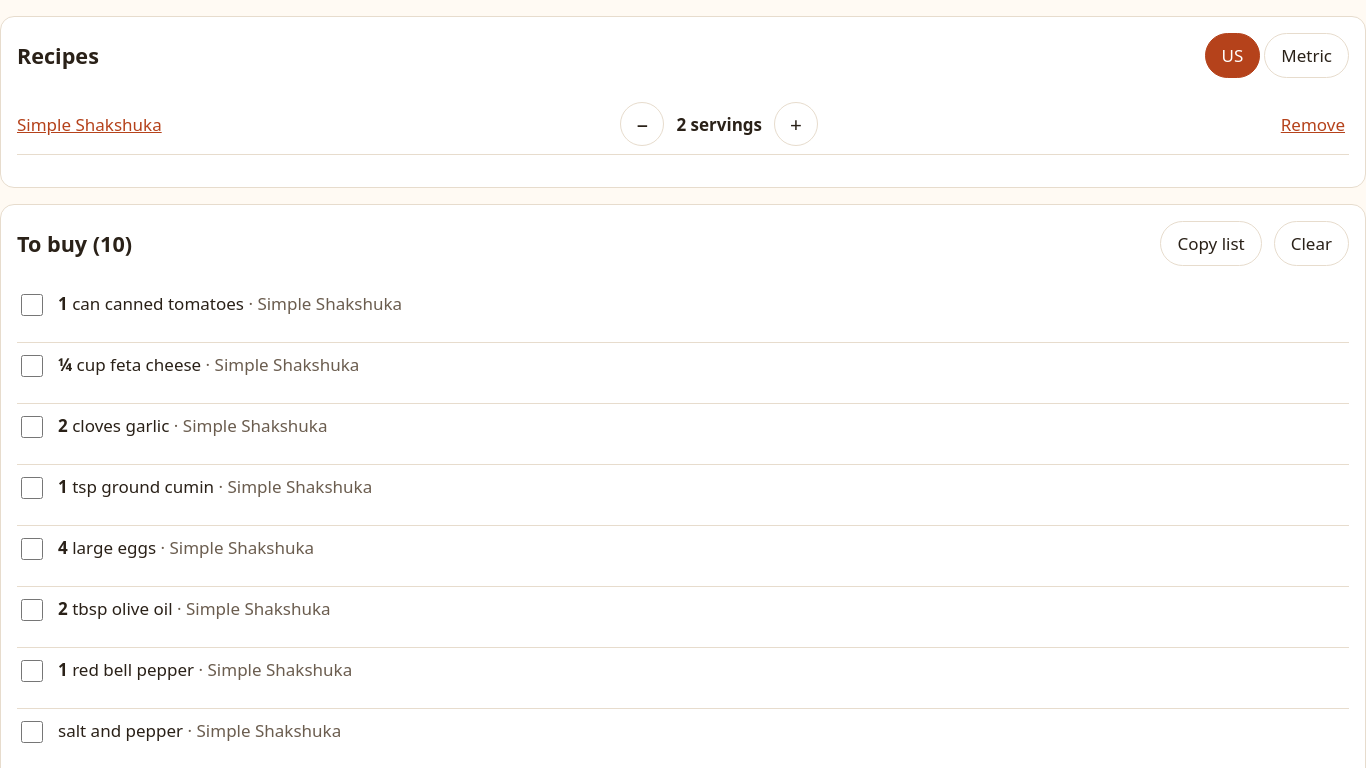
Test: ShoppingListView › copies the list as text and clears it
Click the button "Copy list" at (1211, 244), box [1160, 221, 1262, 266]
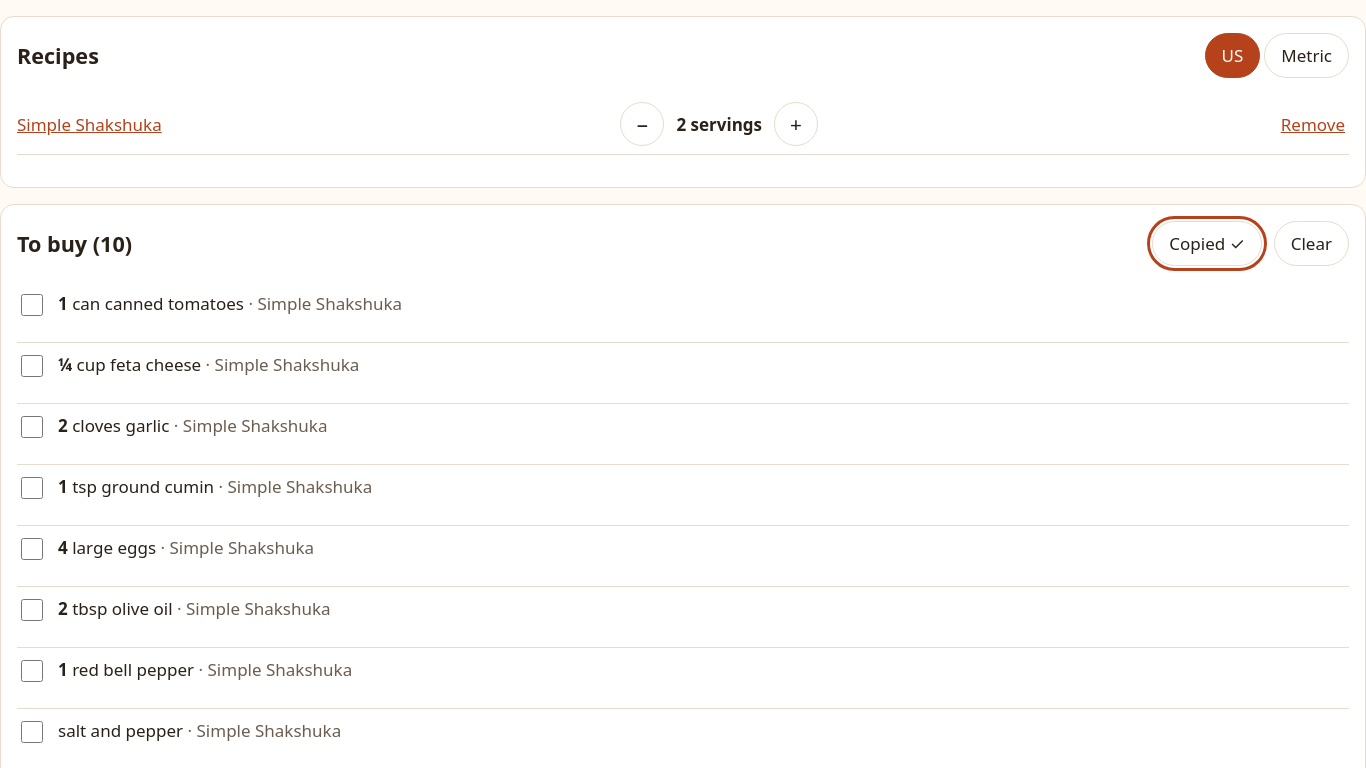
Check: the button "Copied ✓" is shown, box [1152, 221, 1262, 266]
Click the button "Clear" at (1311, 244), box [1274, 221, 1349, 266]
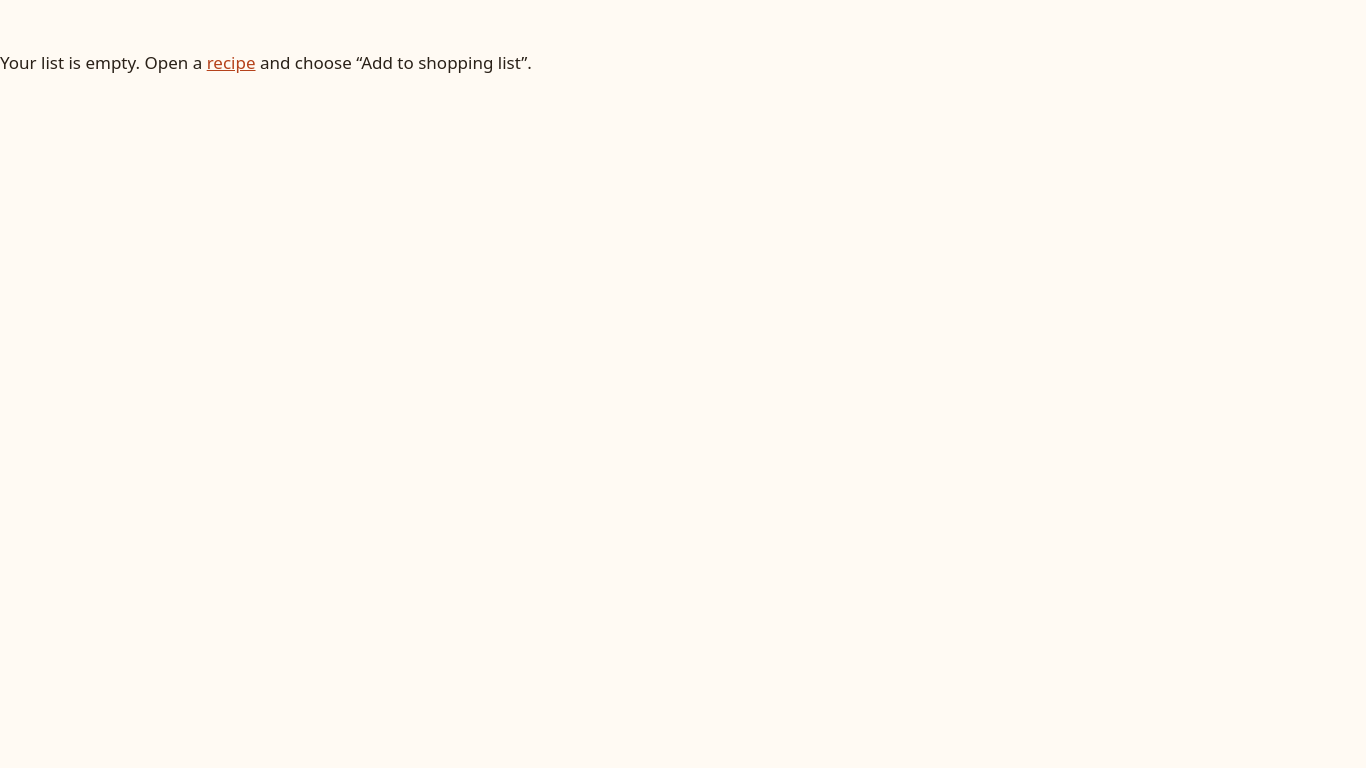
Check: the text "Your list is empty" is shown, box [0, 51, 207, 74]
